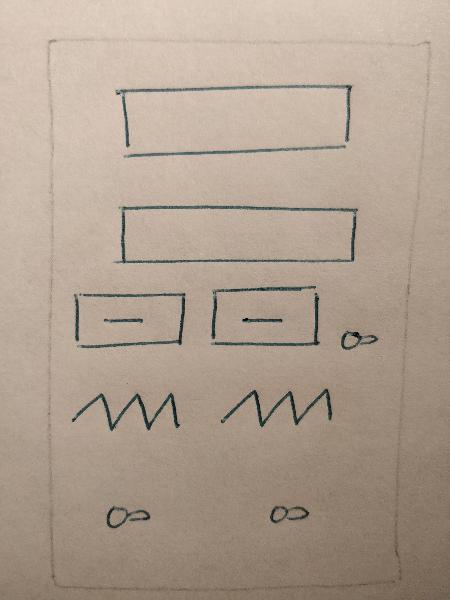button: (204, 284, 332, 354), (68, 285, 191, 353)
switch: (88, 493, 170, 536), (257, 496, 319, 539), (327, 322, 389, 360)
text: (208, 378, 349, 440), (68, 380, 187, 438)
text_input: (105, 79, 364, 162), (107, 194, 360, 273)
